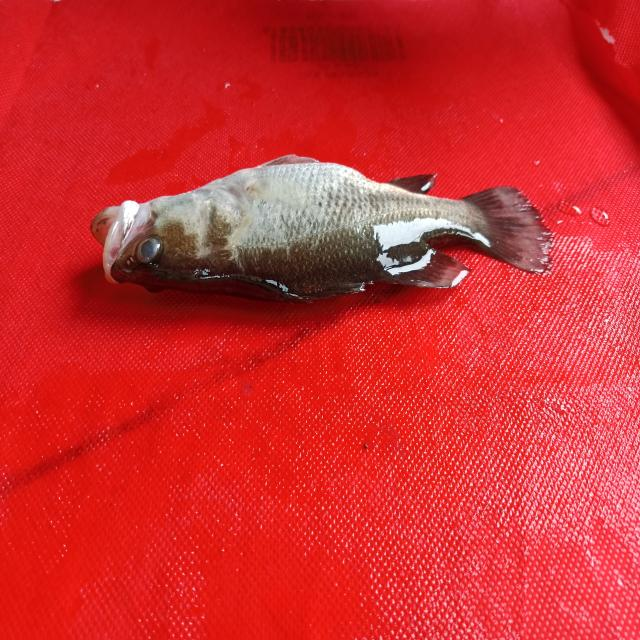ikan: (89, 119, 560, 322)
